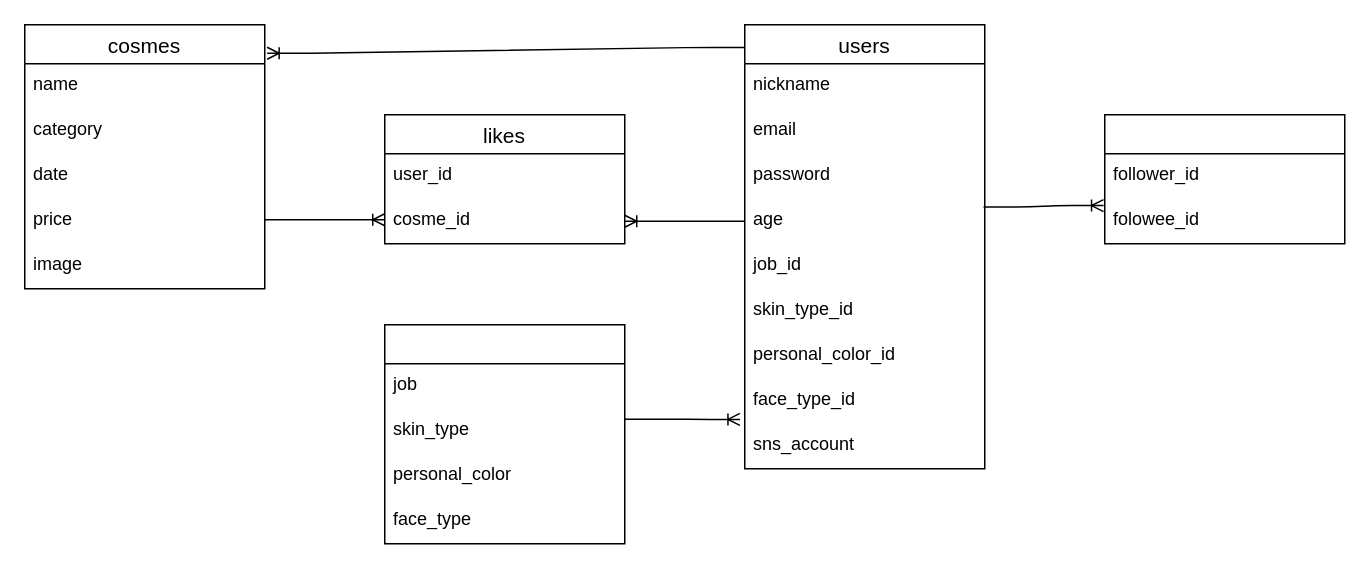
Image size: 1370x569. Some labels were removed from this diagram. Here are the shapes that lost their labels. From the top down, the box of each, then its label:
(1103, 113, 1345, 244): follows
(383, 323, 625, 544): categories
